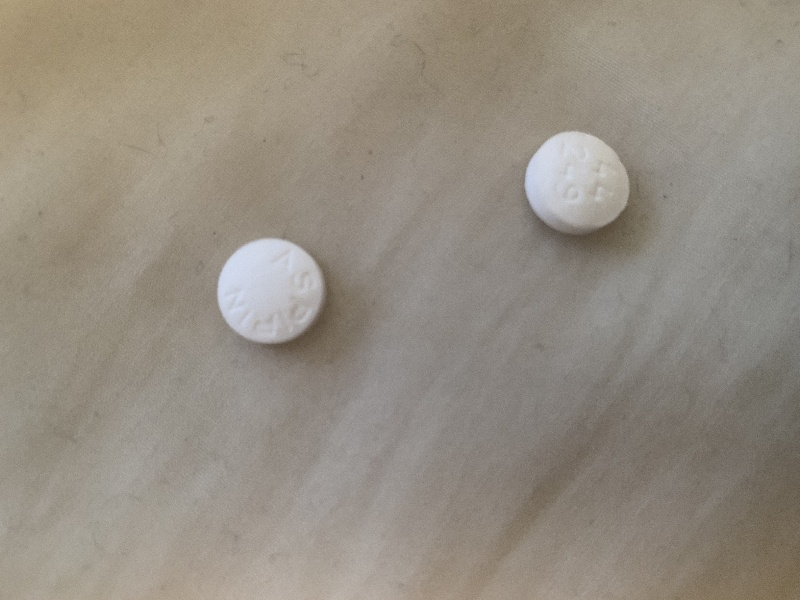Aspirin: (207, 230, 332, 361), (519, 125, 634, 248)
